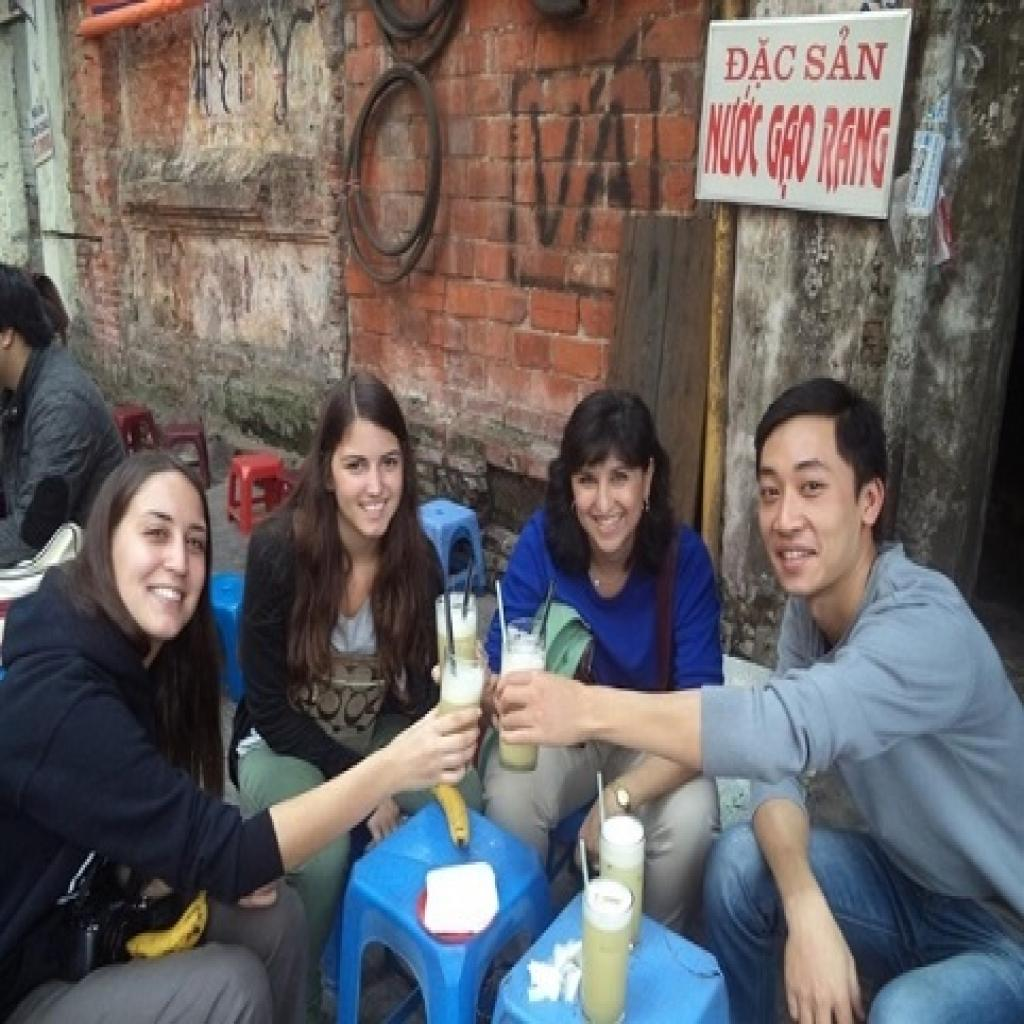text: (531, 6, 661, 253), (814, 105, 894, 199), (703, 86, 771, 180), (763, 102, 820, 202), (803, 26, 894, 85), (722, 37, 801, 91)
